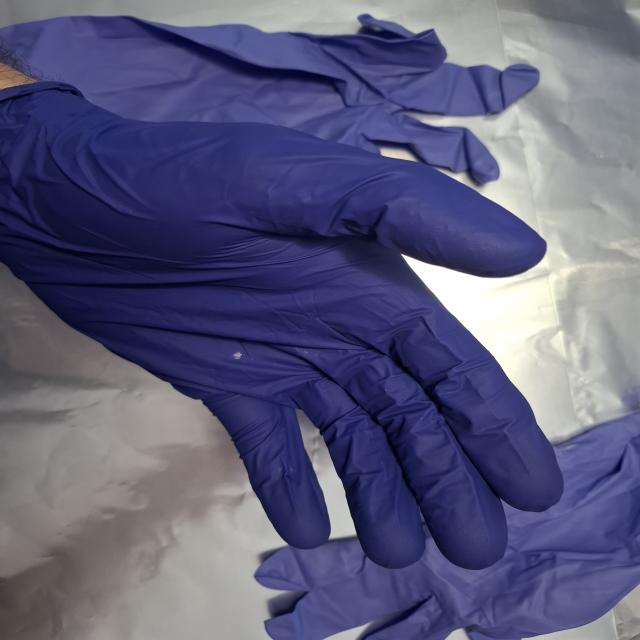glove_on: (0, 78, 574, 573)
